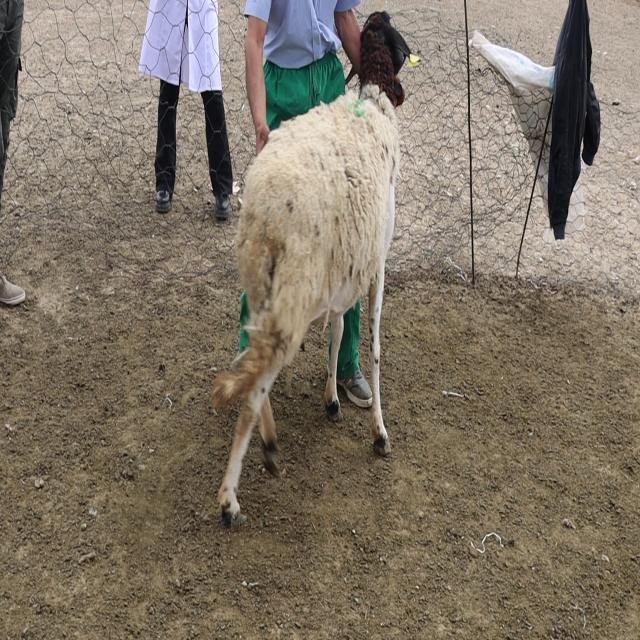Score_5: (212, 12, 411, 521)
